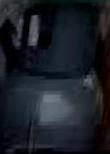cylinder: (1, 0, 110, 154)
